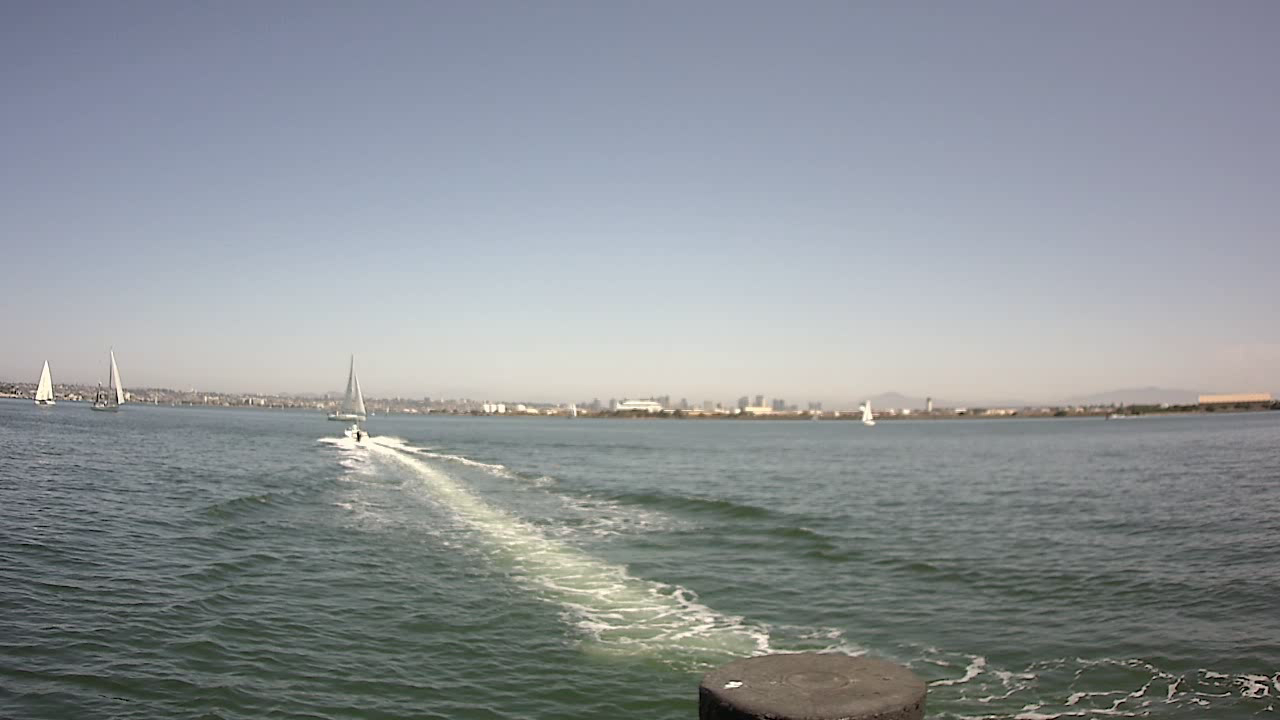target: (335, 417, 376, 451)
